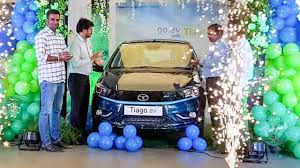Tiago: (91, 37, 208, 147)
